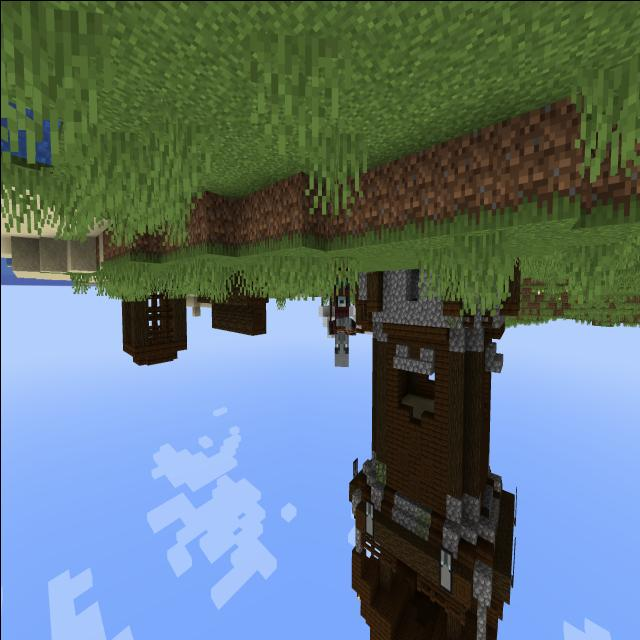iron golem: (323, 253, 366, 373)
